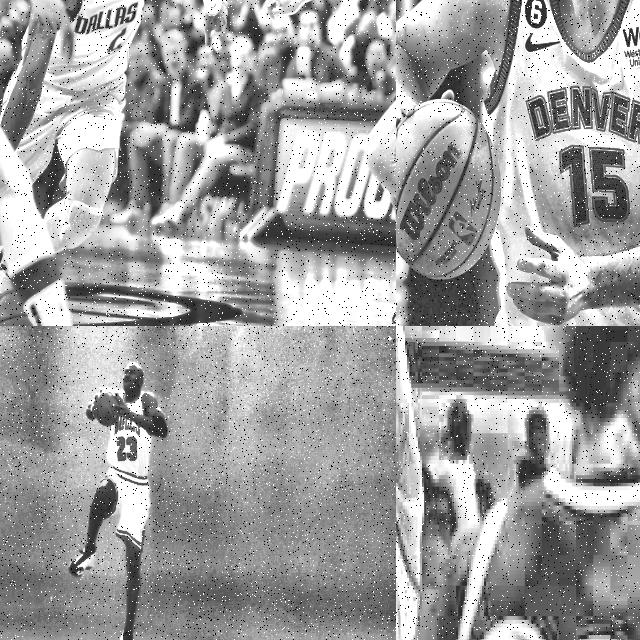Basketball: (396, 100, 501, 280), (0, 290, 31, 326), (94, 389, 119, 426)
